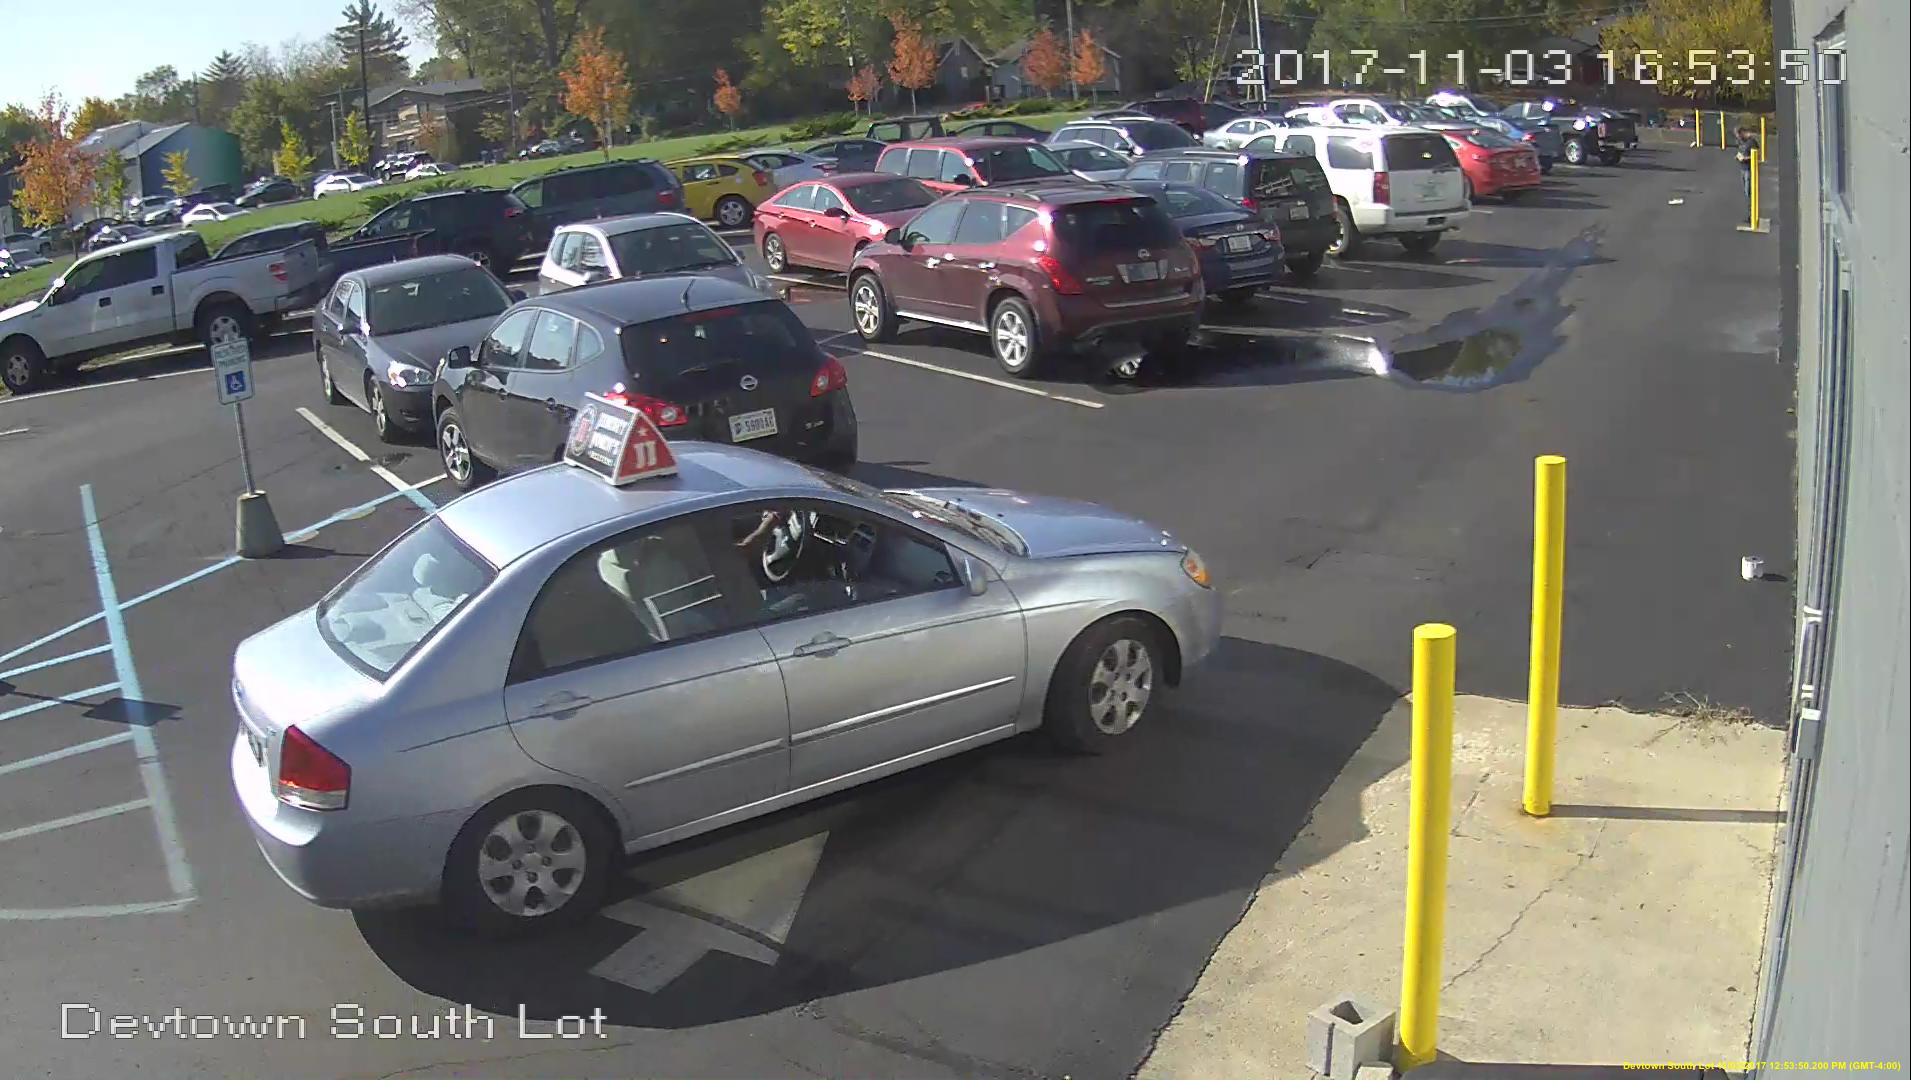jimmy_johns: (556, 387, 682, 496)
